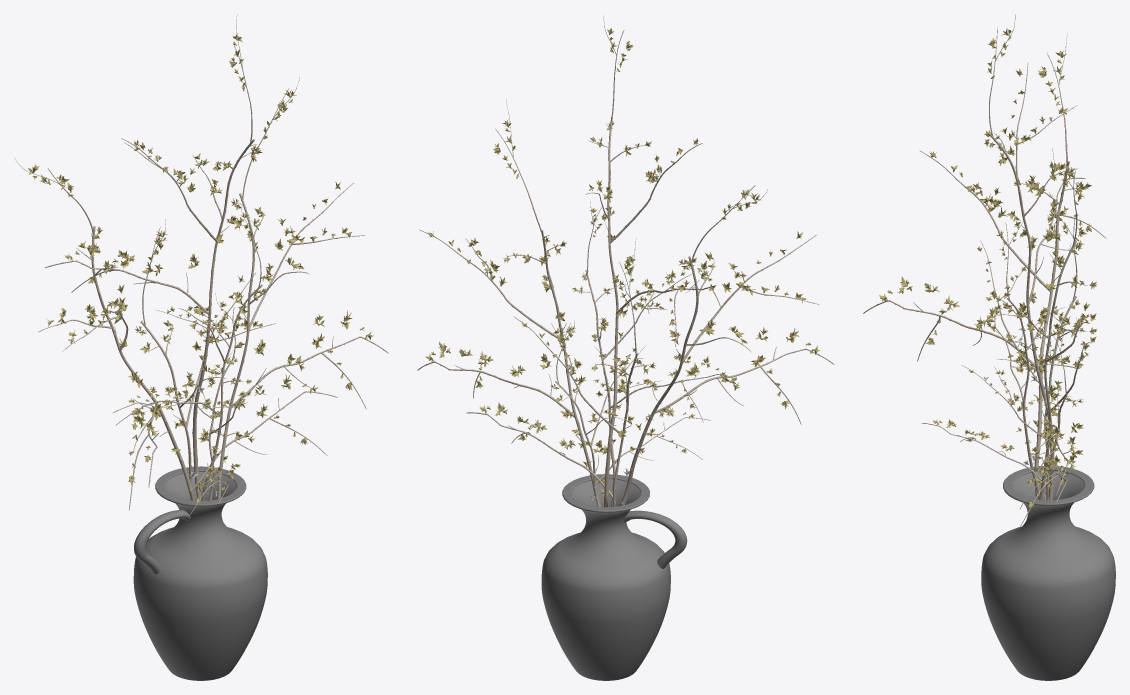
3 renders of one model, left to right at view 1: azimuth 30°, elevation 25°; view 2: azimuth 150°, elevation 25°; view 3: azimuth 270°, elevation 25°, orthographic. The views are drawn at different scales.
Visible parts, largest first — view 1: Geom3D (×14); view 2: Geom3D (×14); view 3: Geom3D (×13).
Part boxes in pixels (left/top/right/bottom): Geom3D (×14): left=28, top=33, right=388, bottom=680; Geom3D (×14): left=417, top=28, right=834, bottom=680; Geom3D (×13): left=863, top=27, right=1115, bottom=680.
Bounding box in the file's own units: 0.5634 × 0.9615 × 0.3303.
